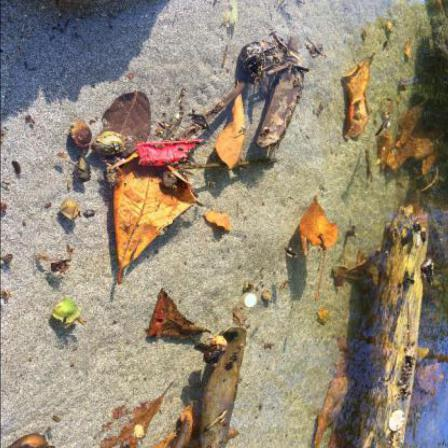Bottle cap: (242, 293, 259, 308)
Other plastic: (138, 140, 205, 166)
